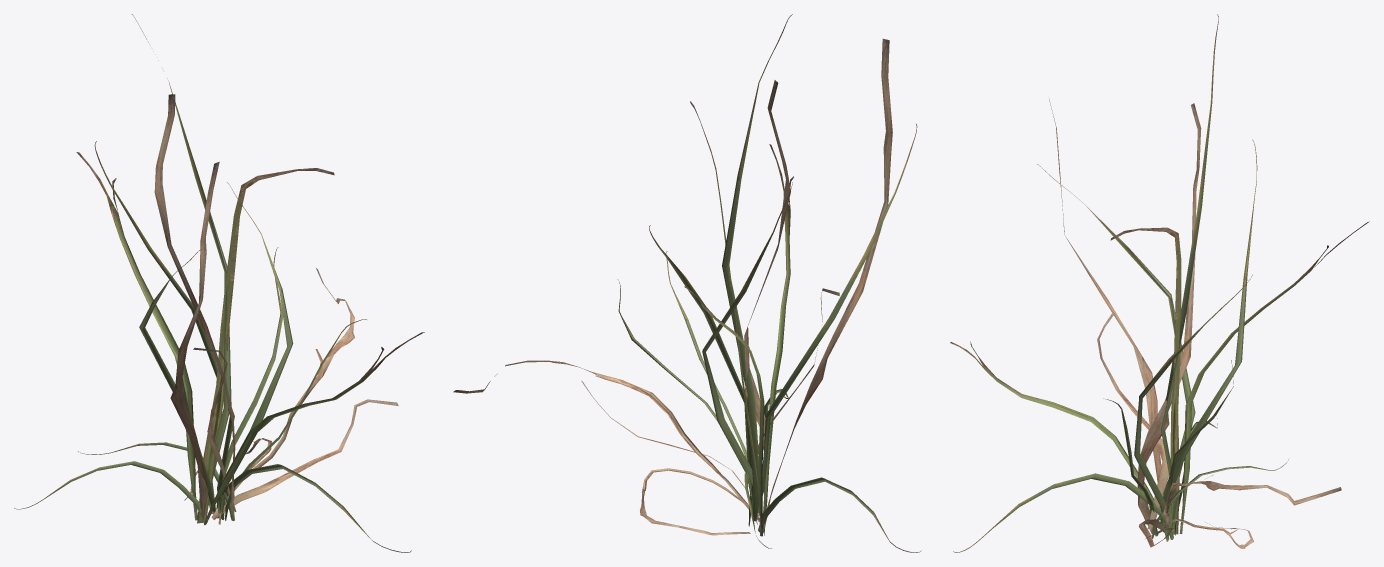
The model's file is grass_medium_02_a.glb.
3 views of the same model, side by side, from view 1: azimuth 30°, elevation 25°; view 2: azimuth 150°, elevation 25°; view 3: azimuth 270°, elevation 25° (orthographic). The views are drawn at different scales.
Parts seen in each view (by area): view 1: grass_medium_02_a; view 2: grass_medium_02_a; view 3: grass_medium_02_a.
Part boxes in pixels (x1,y1,x2,y2): grass_medium_02_a: [14, 14, 424, 552]; grass_medium_02_a: [453, 14, 921, 552]; grass_medium_02_a: [950, 14, 1369, 552].
Size of the model in its own units: 0.1191 by 0.1569 by 0.1198.
1 material, 1 textured.
